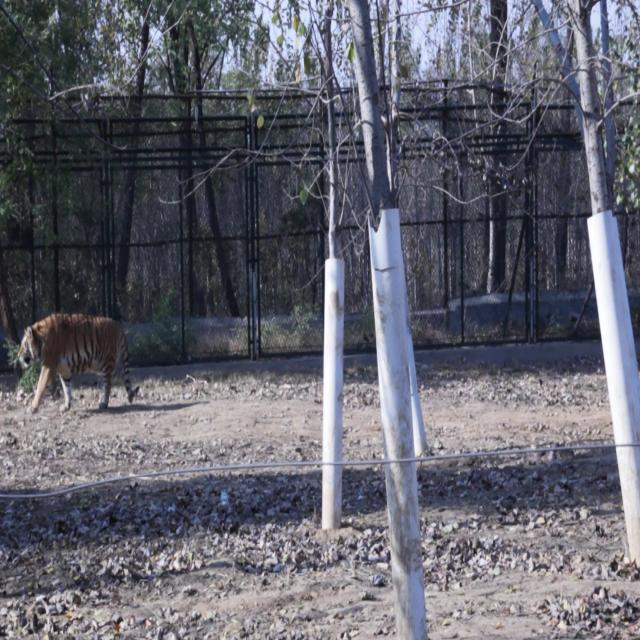Tiger: (16, 303, 140, 435)
